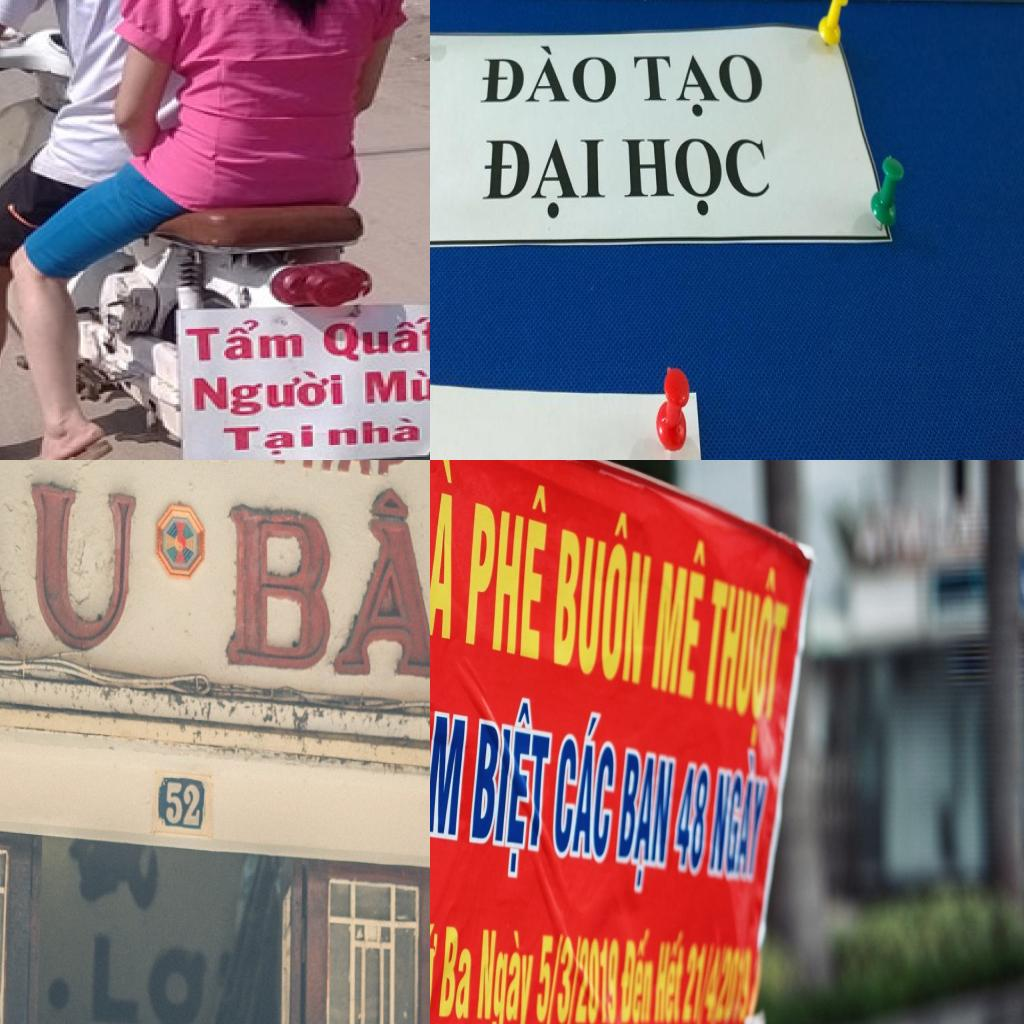text: (223, 477, 430, 695), (0, 460, 141, 662), (547, 485, 655, 688), (458, 460, 557, 670), (697, 547, 797, 753), (462, 681, 556, 895), (547, 703, 618, 876), (649, 519, 712, 705), (480, 132, 608, 221), (614, 736, 681, 899), (705, 739, 774, 895), (474, 37, 618, 110), (631, 50, 766, 120), (188, 368, 354, 420), (430, 699, 471, 874), (472, 916, 538, 1024), (185, 317, 315, 366), (430, 460, 463, 648), (681, 937, 752, 1024), (671, 755, 715, 885), (319, 310, 430, 361), (570, 936, 619, 1024), (435, 918, 475, 1024), (217, 420, 321, 460), (262, 460, 414, 484), (618, 926, 655, 1024), (324, 416, 430, 450), (652, 930, 687, 1024), (355, 368, 430, 410), (551, 933, 576, 1024), (164, 778, 203, 831), (543, 931, 565, 1024), (534, 932, 555, 1024), (564, 936, 583, 1024)
